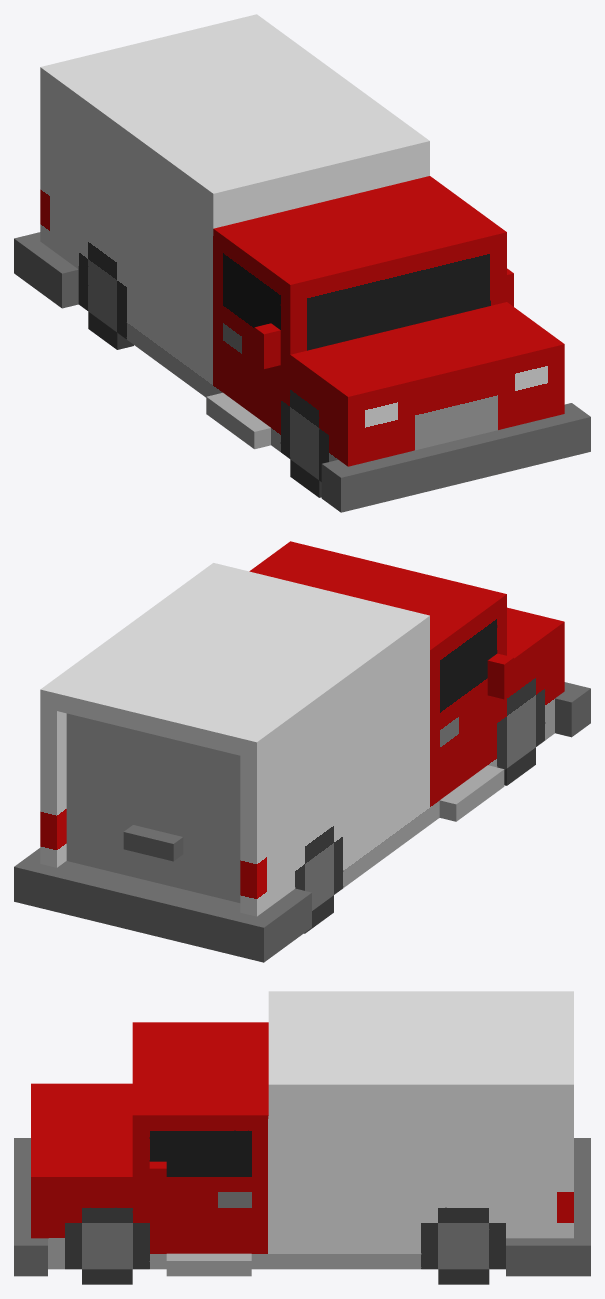
The model's file is veh_truck1.dae.
3 renders of one model, top to bottom at view 1: azimuth 30°, elevation 25°; view 2: azimuth 150°, elevation 25°; view 3: azimuth 270°, elevation 25°, orthographic. The views are drawn at different scales.
Visible parts, largest first — view 1: veh_truck1; view 2: veh_truck1; view 3: veh_truck1.
Part boxes in pixels (box(x1,y1,x2,y2)): veh_truck1: box(14, 14, 590, 512); veh_truck1: box(14, 541, 590, 962); veh_truck1: box(14, 991, 590, 1284).
Size of the model in its own units: 1.5 by 3.4 by 1.3.
Materials: 1 (1 with a texture image).
